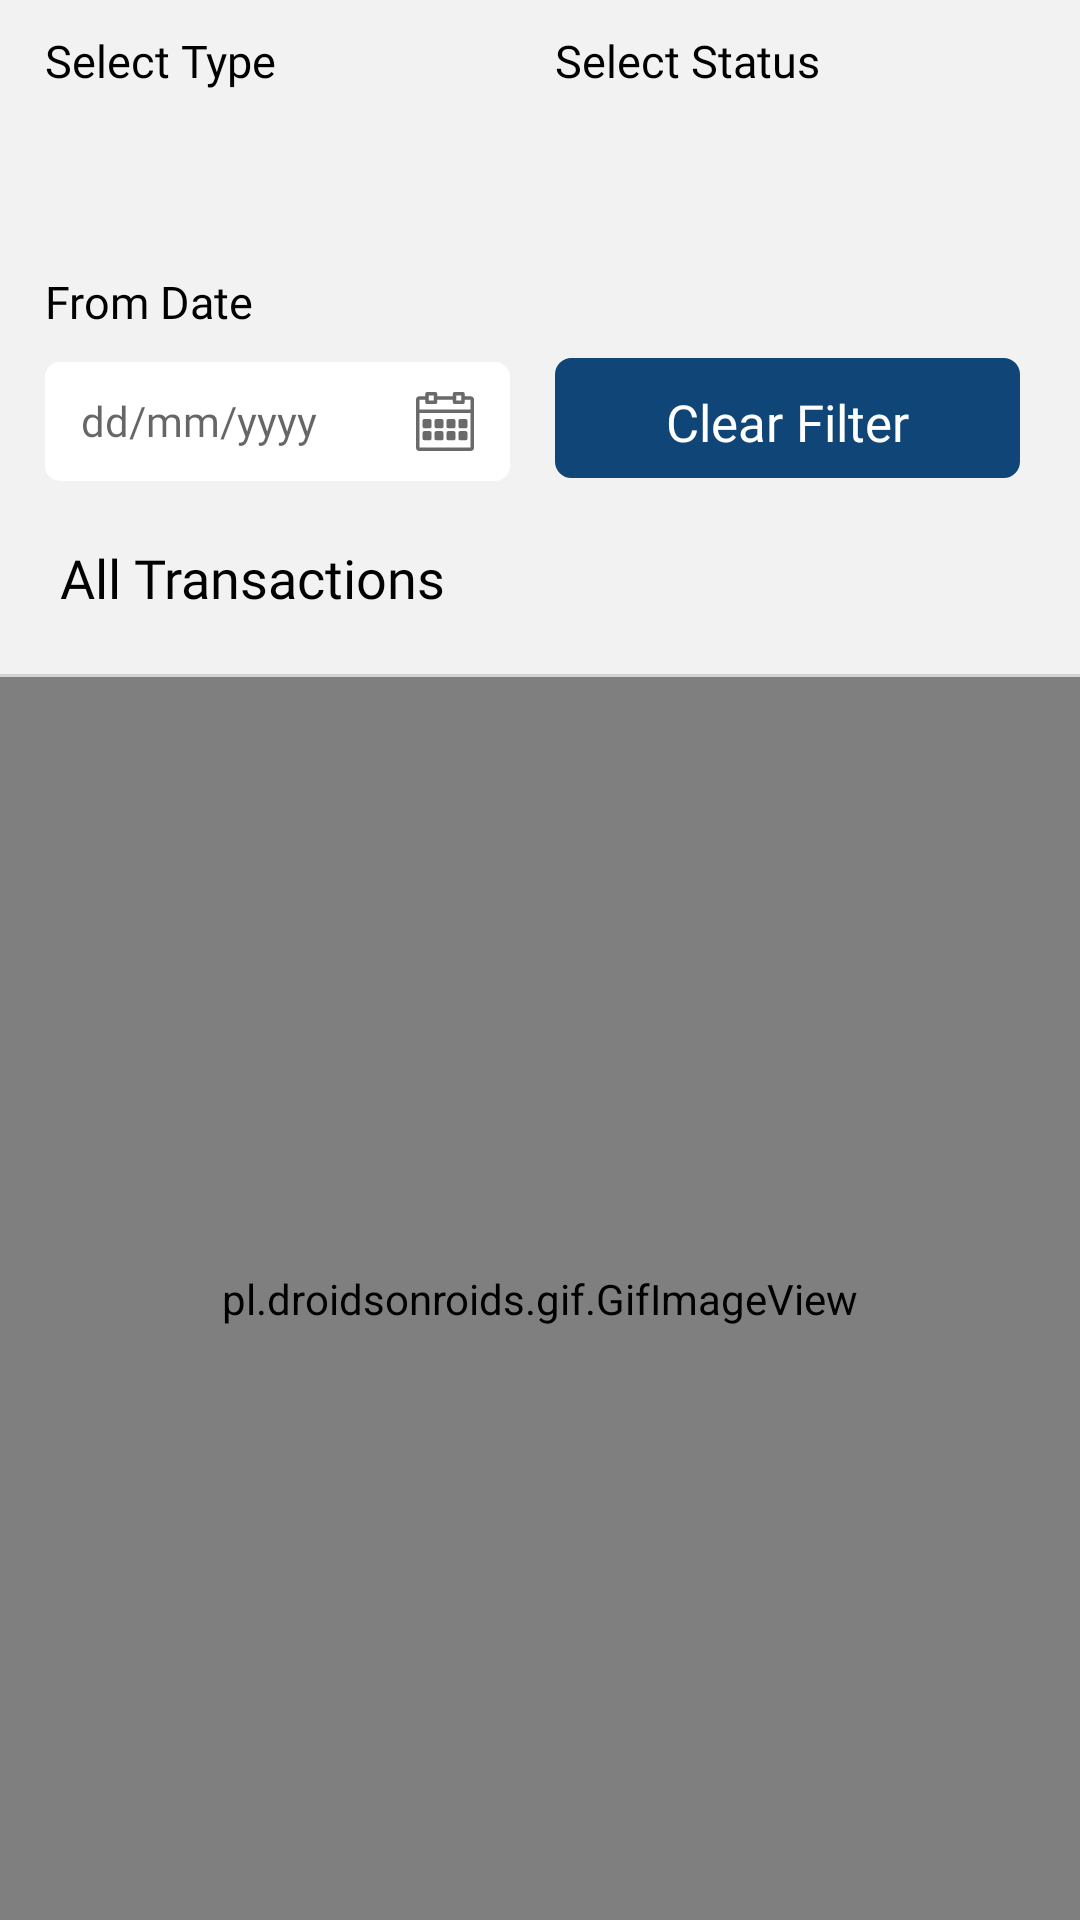

Point at icon controls on the screen. Image size 1080 × 1920, points as (x=x, y=y).
calendar: (x=445, y=421)
